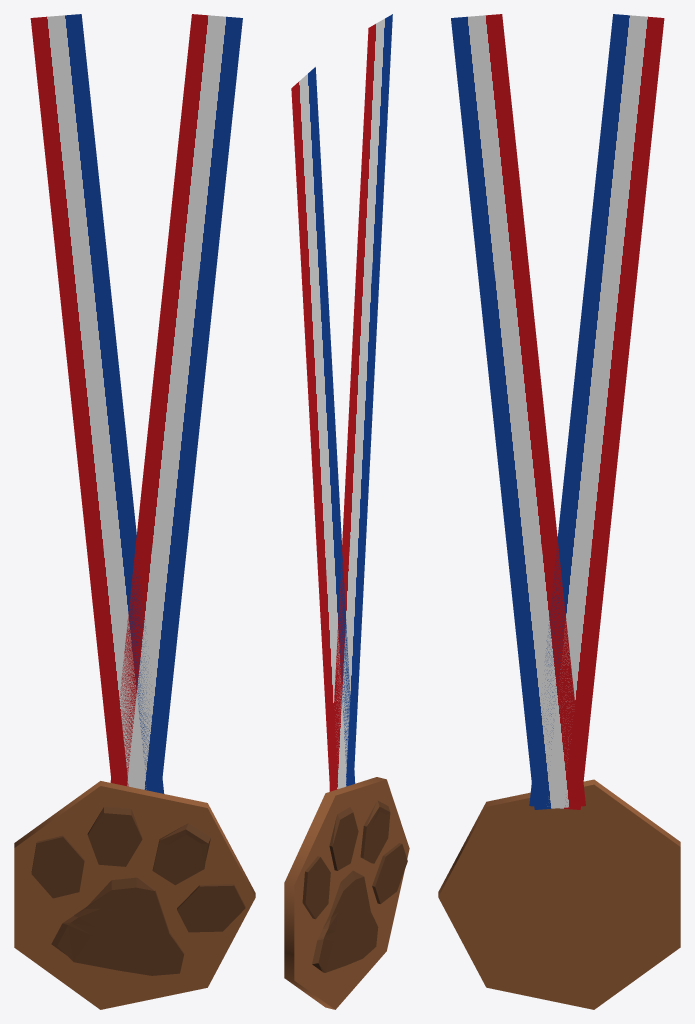
File: medalBronze.FBX
3 renders of one model, left to right at view 1: azimuth 90°, elevation 25°; view 2: azimuth 150°, elevation 25°; view 3: azimuth 270°, elevation 25°, orthographic. The views are drawn at different scales.
Parts seen in each view (by area): view 1: Box236; view 2: Box236; view 3: Box236.
Boxes of the visible parts, x1,y1,x2,y2 form: Box236: (14,14,255,1009); Box236: (284,14,409,1009); Box236: (438,14,680,1009).
Size of the model in its own units: 0.5628 by 35.33 by 7.79.
